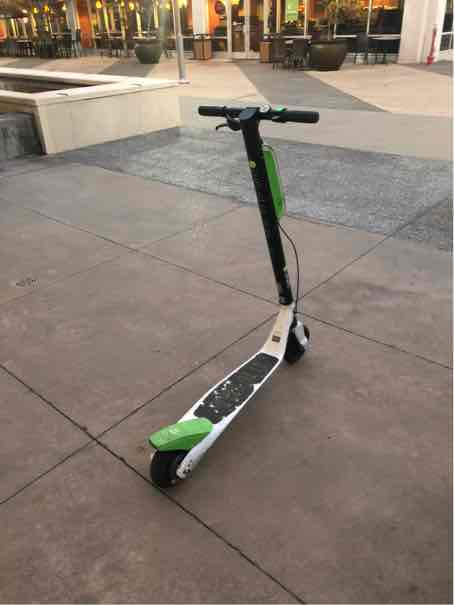scooter: (141, 104, 331, 496)
